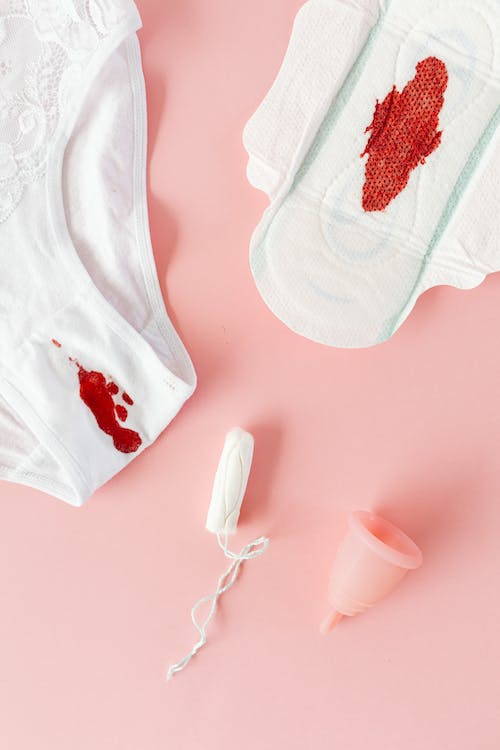blood: (354, 53, 453, 216), (47, 333, 142, 456)
